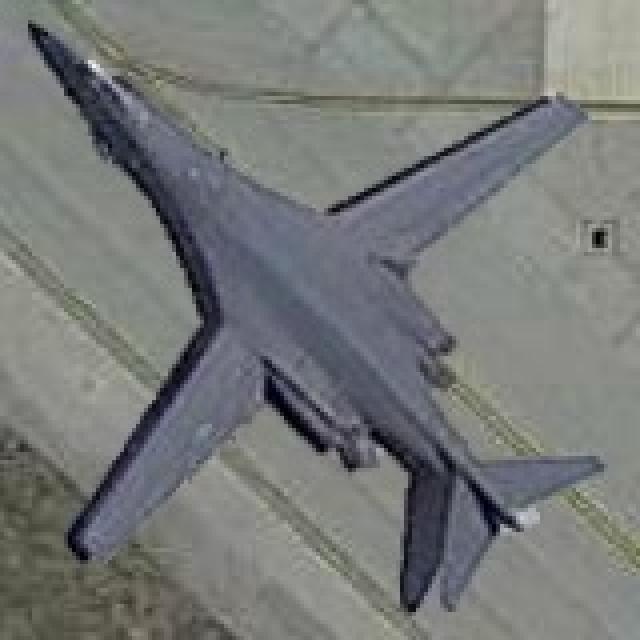B-1_TopDown: (20, 12, 604, 612)
